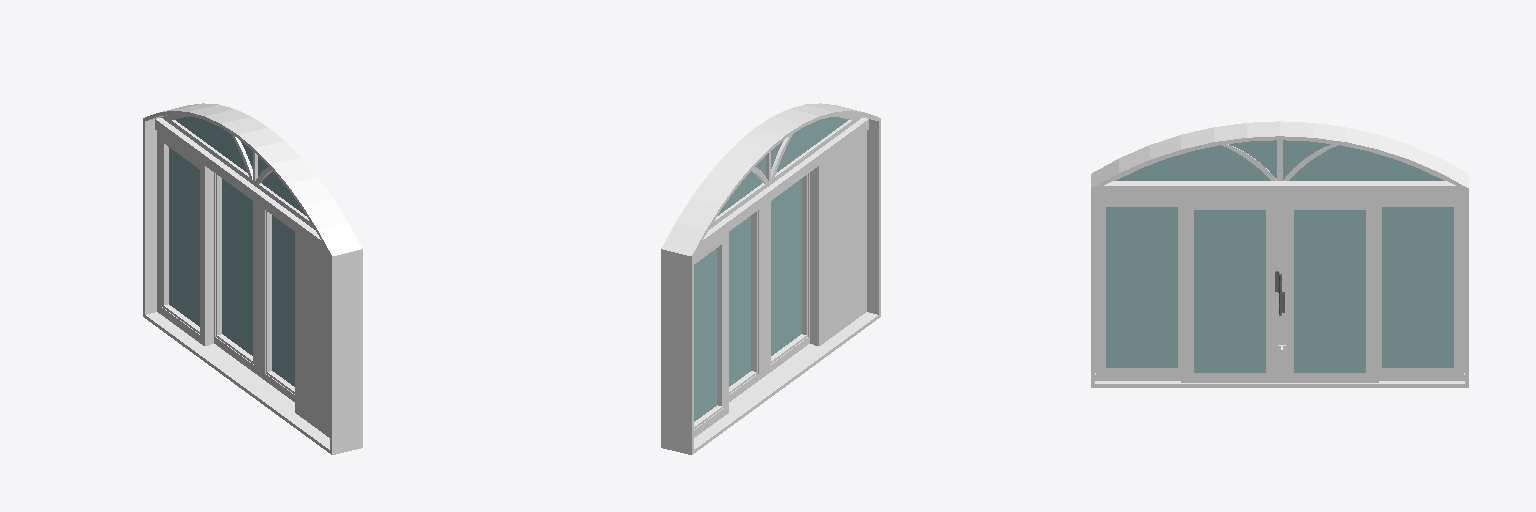
Rendered from window_arch.obj.
The picture shows the model from 3 angles: view 1: azimuth 30°, elevation 25°; view 2: azimuth 150°, elevation 25°; view 3: azimuth 270°, elevation 25°; orthographic projection.
Visible parts, largest first — view 1: Group_001, Group_006, Janela_de_Ferro_1500x1101___Vidro_004, Janela_de_Ferro_1500x1101___Vidro_002, Janela_de_Ferro_1500x1101___Vidro_001, Group_007, Group_004, Group_002; view 2: Group_001, Group_006, Janela_de_Ferro_1500x1101___Vidro_001, Janela_de_Ferro_1500x1101___Vidro_004, Janela_de_Ferro_1500x1101___Vidro_002, Group_002, Group_007, Group_004; view 3: Group_001, Janela_de_Ferro_1500x1101___Vidro_002, Janela_de_Ferro_1500x1101___Vidro_001, Janela_de_Ferro_1500x1101___Vidro_004, Janela_de_Ferro_1500x1101___Vidro_003, Group_002, Group_004, Group_007, Group_006.
Boxes of the visible parts, x1,y1,x2,y2 form: Group_001: [143, 103, 362, 454]; Group_006: [295, 232, 329, 437]; Janela_de_Ferro_1500x1101___Vidro_004: [162, 141, 199, 333]; Janela_de_Ferro_1500x1101___Vidro_002: [216, 174, 253, 363]; Janela_de_Ferro_1500x1101___Vidro_001: [266, 211, 294, 393]; Group_007: [157, 131, 213, 345]; Group_004: [214, 173, 258, 375]; Group_002: [259, 206, 294, 401]; Group_001: [661, 103, 880, 454]; Group_006: [810, 131, 866, 345]; Janela_de_Ferro_1500x1101___Vidro_001: [770, 174, 807, 363]; Janela_de_Ferro_1500x1101___Vidro_004: [694, 242, 723, 428]; Janela_de_Ferro_1500x1101___Vidro_002: [729, 211, 757, 393]; Group_002: [763, 173, 809, 376]; Group_007: [694, 232, 728, 437]; Group_004: [729, 207, 762, 401]; Group_001: [1091, 121, 1468, 387]; Janela_de_Ferro_1500x1101___Vidro_002: [1294, 210, 1365, 372]; Janela_de_Ferro_1500x1101___Vidro_001: [1194, 210, 1265, 372]; Janela_de_Ferro_1500x1101___Vidro_004: [1382, 207, 1453, 367]; Janela_de_Ferro_1500x1101___Vidro_003: [1106, 207, 1177, 367]; Group_002: [1181, 207, 1281, 382]; Group_004: [1282, 207, 1378, 382]; Group_007: [1379, 207, 1464, 374]; Group_006: [1095, 207, 1180, 374].
Bounding box in the file's own units: 6.6 × 43.31 × 59.06.